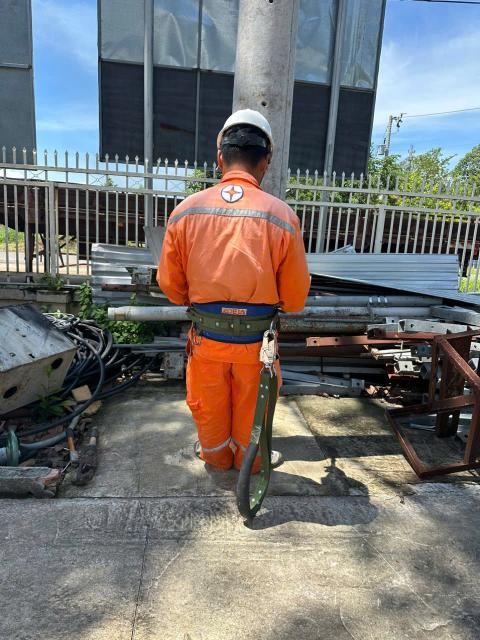harness: (179, 296, 288, 352)
helmet: (208, 109, 283, 168)
shoes: (179, 436, 237, 473), (239, 442, 294, 476)
